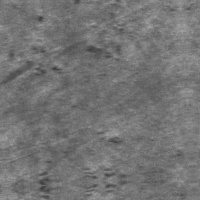rolled-in_scale: (1, 24, 128, 84), (28, 134, 125, 185)
